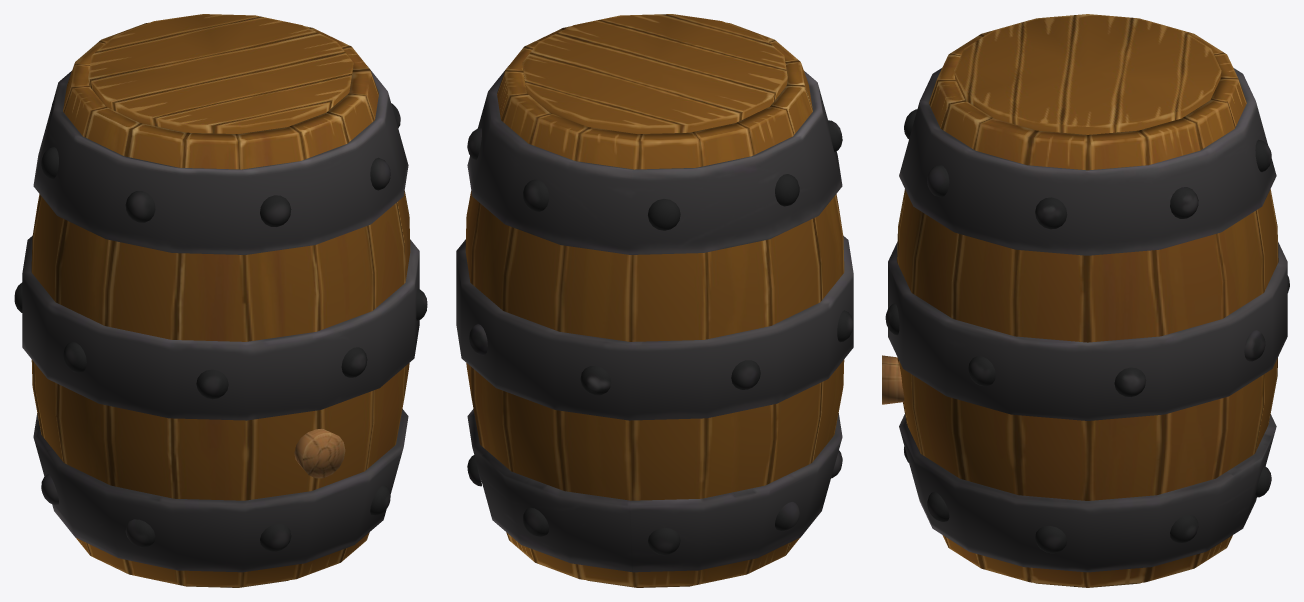
Rendered from Barrel.fbx.
3 renders of one model, left to right at view 1: azimuth 30°, elevation 25°; view 2: azimuth 150°, elevation 25°; view 3: azimuth 270°, elevation 25°, orthographic.
Parts seen in each view (by area): view 1: Bands, Barrel, Top, Bolts, Cork; view 2: Bands, Barrel, Top, Bolts; view 3: Bands, Barrel, Top, Bolts, Cork.
Part boxes in pixels (bbox=[...]): Bands: bbox=[22, 66, 419, 572]; Barrel: bbox=[31, 22, 410, 587]; Top: bbox=[88, 14, 353, 133]; Bolts: bbox=[14, 103, 427, 551]; Cork: bbox=[294, 428, 345, 478]; Bands: bbox=[456, 66, 853, 572]; Barrel: bbox=[465, 22, 844, 587]; Top: bbox=[522, 14, 787, 133]; Bolts: bbox=[467, 120, 853, 555]; Bands: bbox=[888, 68, 1287, 572]; Barrel: bbox=[897, 20, 1278, 587]; Top: bbox=[954, 14, 1221, 134]; Bolts: bbox=[885, 109, 1289, 553]; Cork: bbox=[882, 355, 904, 404].
Size of the model in its own units: 163 by 205 by 164.
